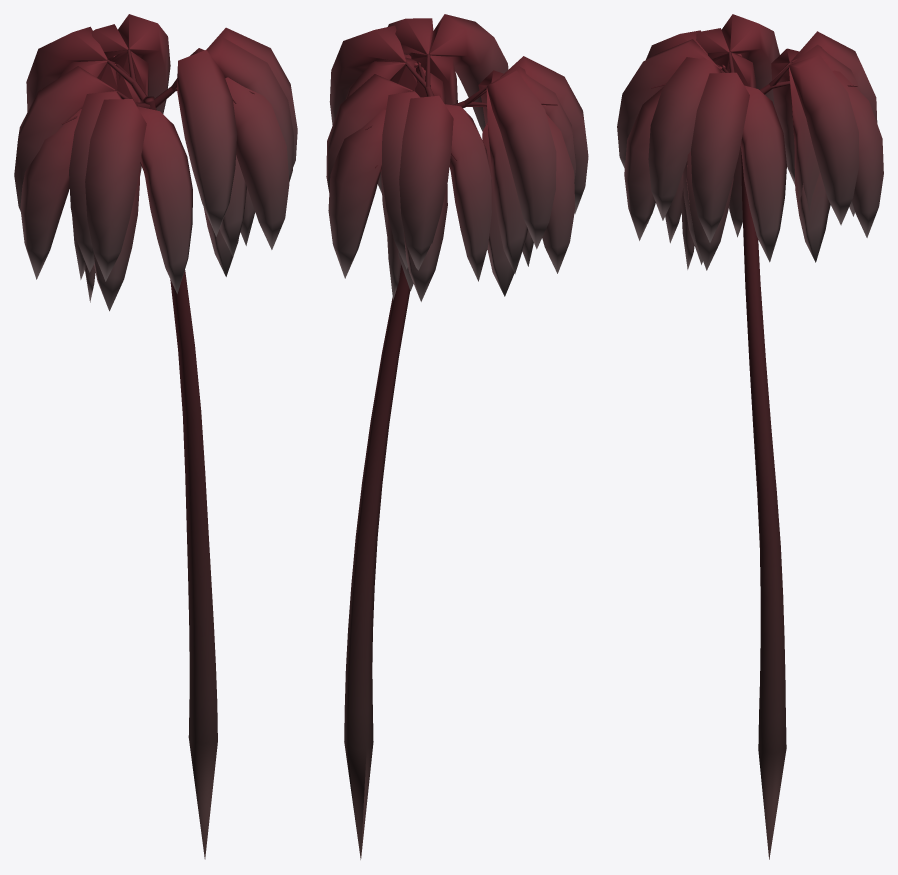
The model's file is plants-trees-palms-red-palm-tree_v5.fbx.
3 views of the same model, side by side, from view 1: azimuth 30°, elevation 25°; view 2: azimuth 150°, elevation 25°; view 3: azimuth 270°, elevation 25° (orthographic). The views are drawn at different scales.
Visible parts, largest first — view 1: Red Palm Tree_v5; view 2: Red Palm Tree_v5; view 3: Red Palm Tree_v5.
Part boxes in pixels (x1,y1,x2,y2): Red Palm Tree_v5: [14, 14, 297, 859]; Red Palm Tree_v5: [326, 14, 588, 859]; Red Palm Tree_v5: [617, 14, 883, 859].
Bounding box in the file's own units: 1.61 × 5 × 1.52.
